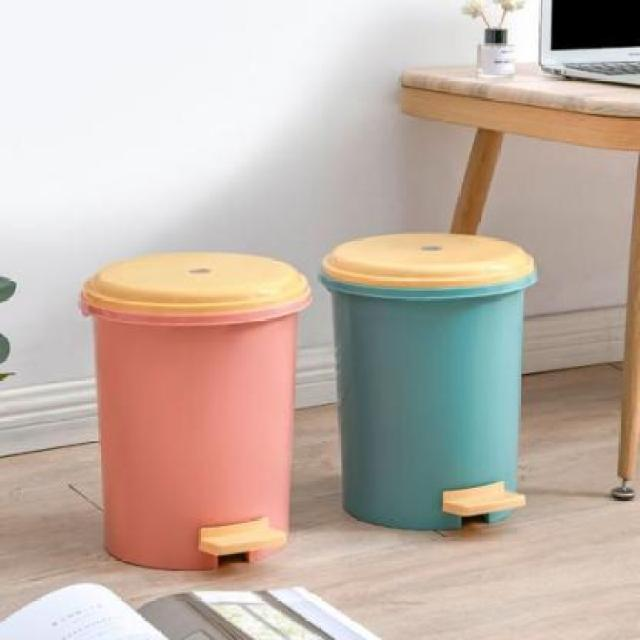dustbin: (76, 248, 314, 575), (314, 226, 542, 536)
